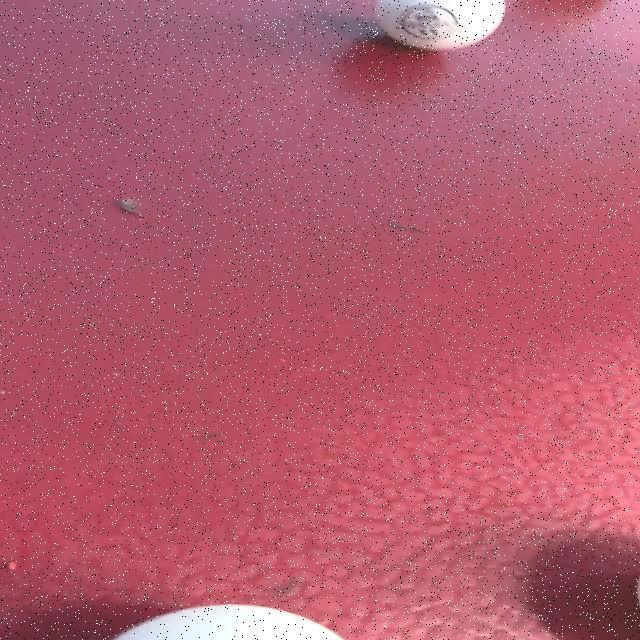ping-pong-ball: (350, 1, 534, 58)
